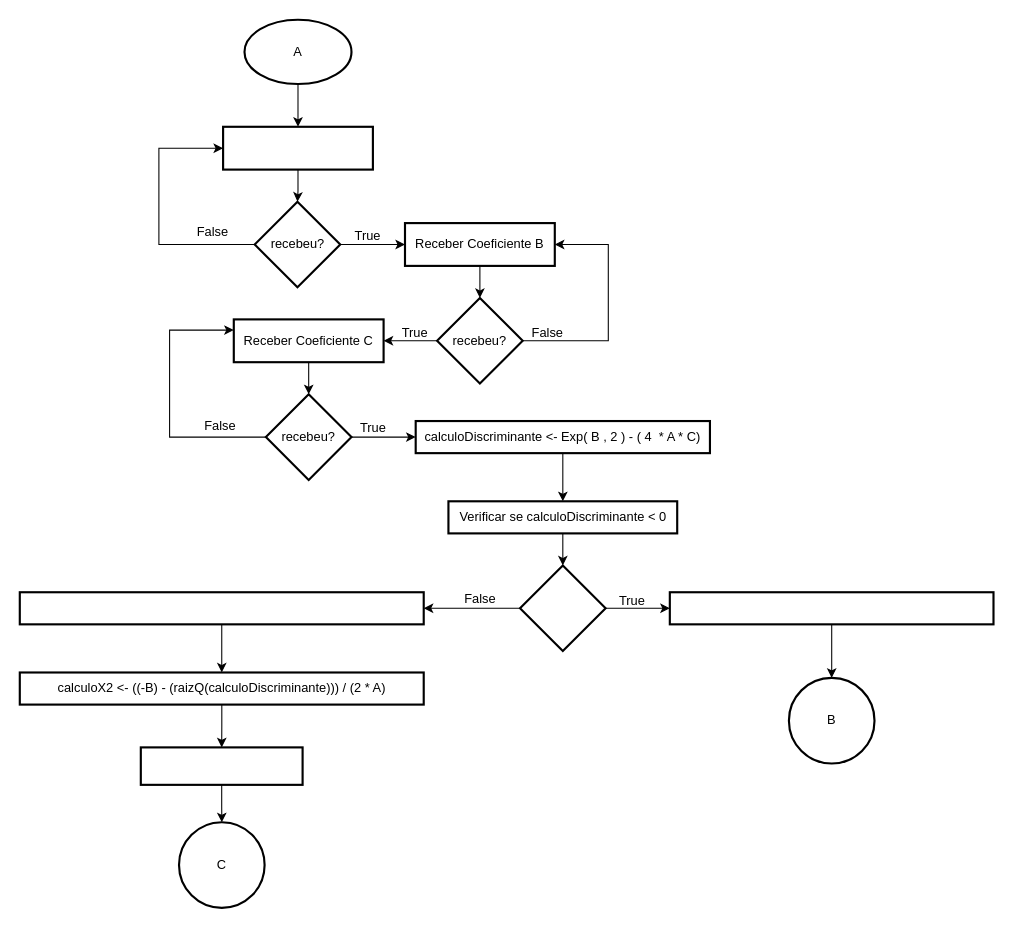
Some shapes in this 1012 by 927 pixel diagram are drawn without their labels. Each missing label, with the centre of its shape:
"calculoX1 <-( (-B) + (raizQ(calculoDiscriminante))) / (2 * A)" goes at (x=221, y=608).
"Receber Coeficiente A" goes at (x=297, y=147).
"Saida: caculoX1,calculoX2" goes at (x=221, y=765).
"Saida: Está equação não possui raizes reais" goes at (x=831, y=608).
"É menor?" goes at (x=562, y=608).
